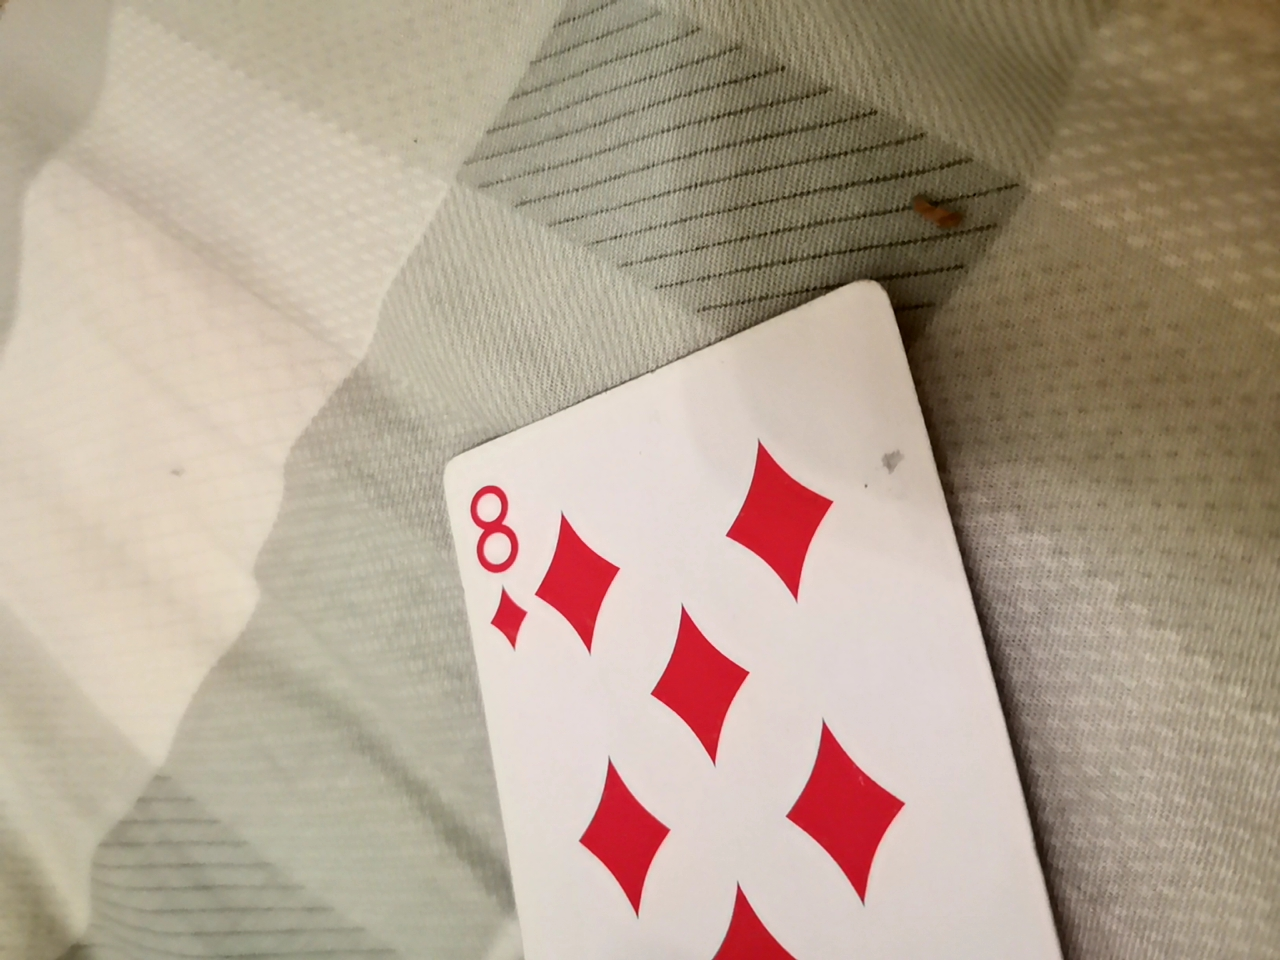fk 8: (427, 257, 1067, 957)
